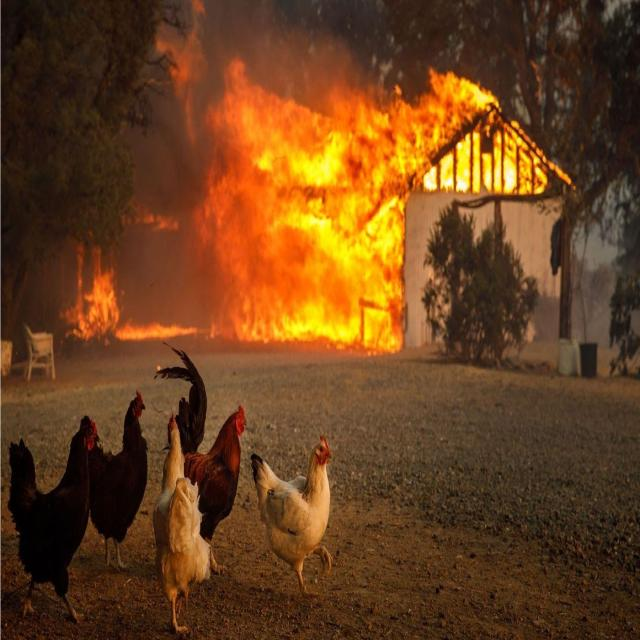Fire: (203, 24, 587, 358), (63, 245, 202, 348)
